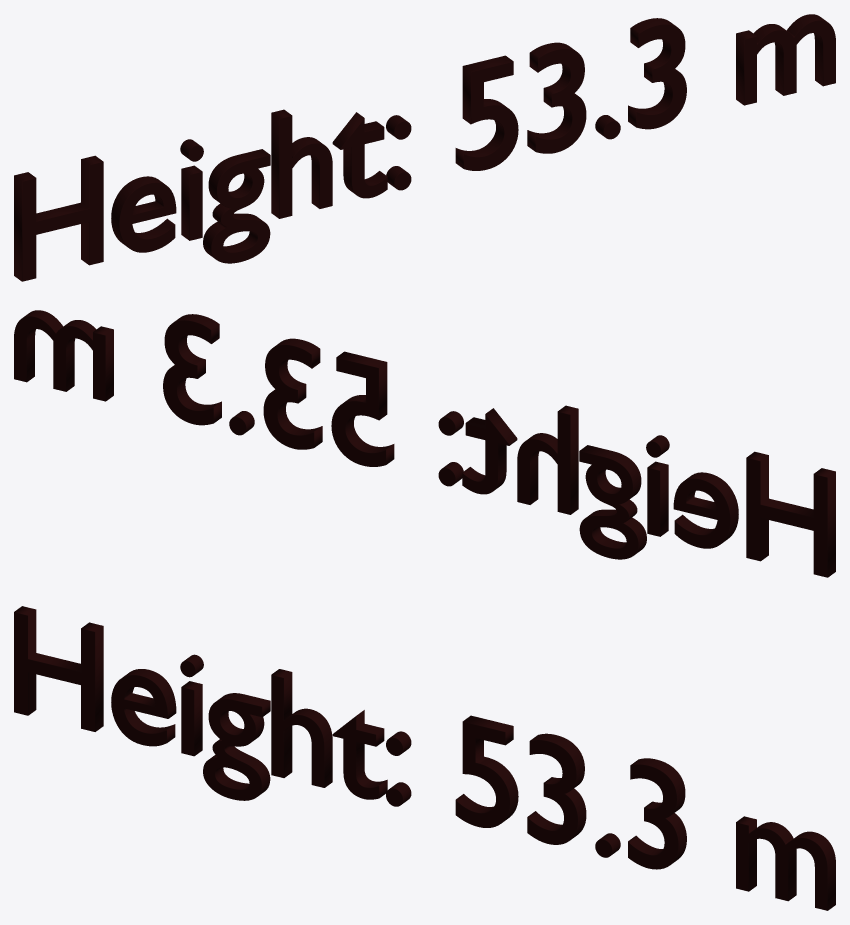
File: text_technical03.glb
3 views of the same model, one above another, from view 1: azimuth 30°, elevation 25°; view 2: azimuth 150°, elevation 25°; view 3: azimuth 330°, elevation 25° (orthographic).
Parts seen in each view (by area): view 1: technical03; view 2: technical03; view 3: technical03.
Boxes of the visible parts, x1,y1,x2,y2 form: technical03: (14, 14, 835, 281); technical03: (14, 310, 835, 577); technical03: (14, 606, 835, 910).
Size of the model in its own units: 100 by 15.9 by 1.79.
